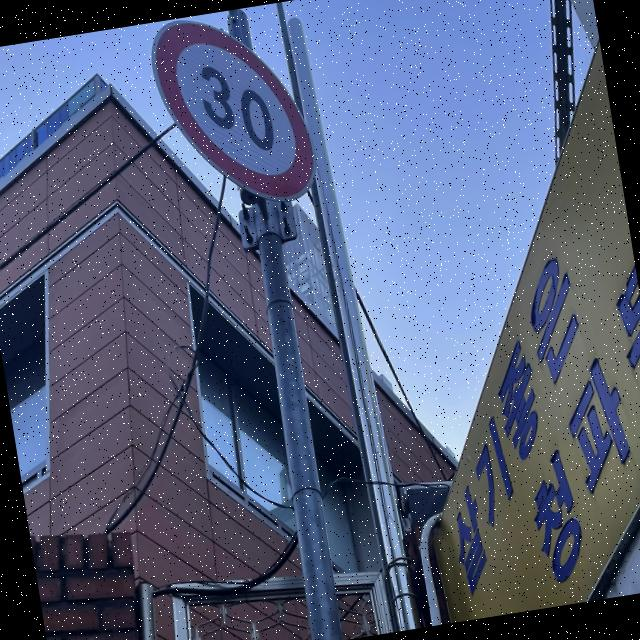Ograniczenie predkosci do 30: (150, 6, 322, 218)
